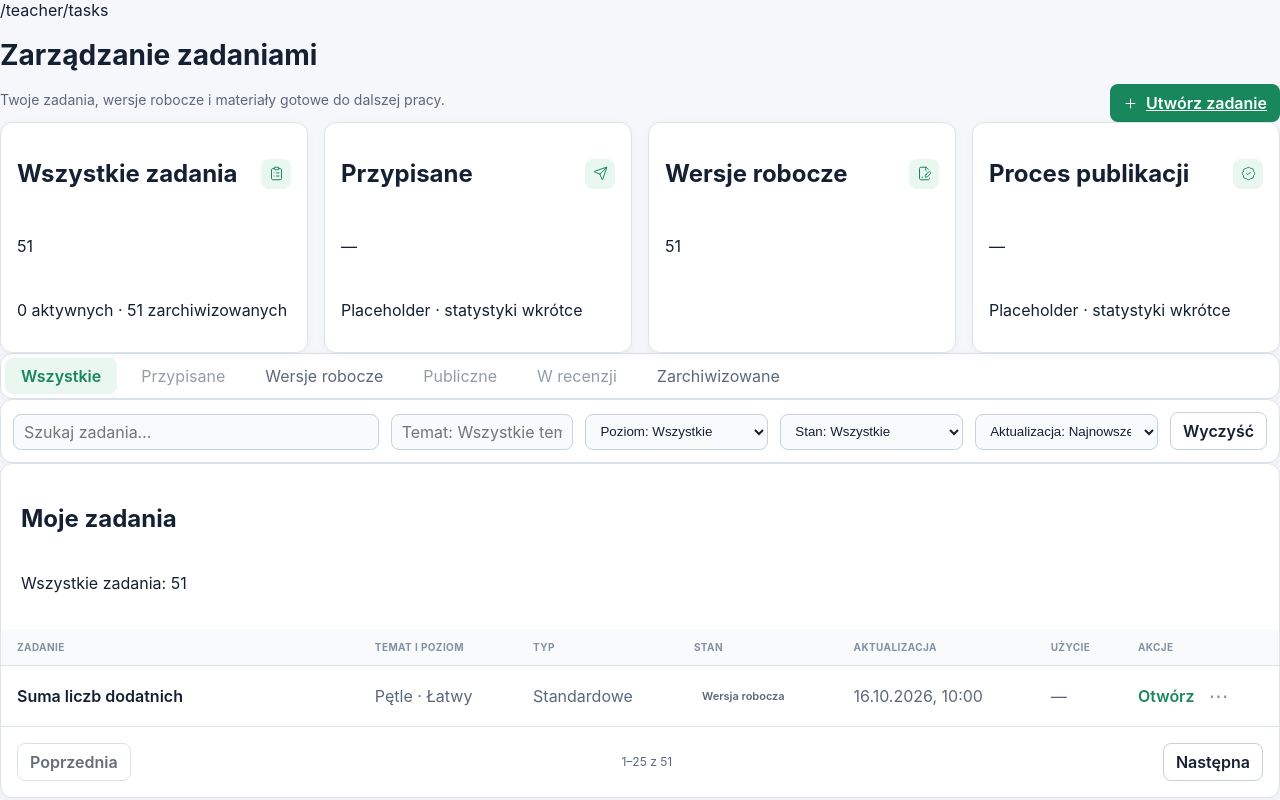
Test: distinguishes no matching results and lets the teacher clear filters
Expected: the table is shown, [1, 629, 1279, 726]
Step 1. Select "Gotowe" in the 2nd dropdown named "Status" → (872, 432), box [780, 414, 963, 450]
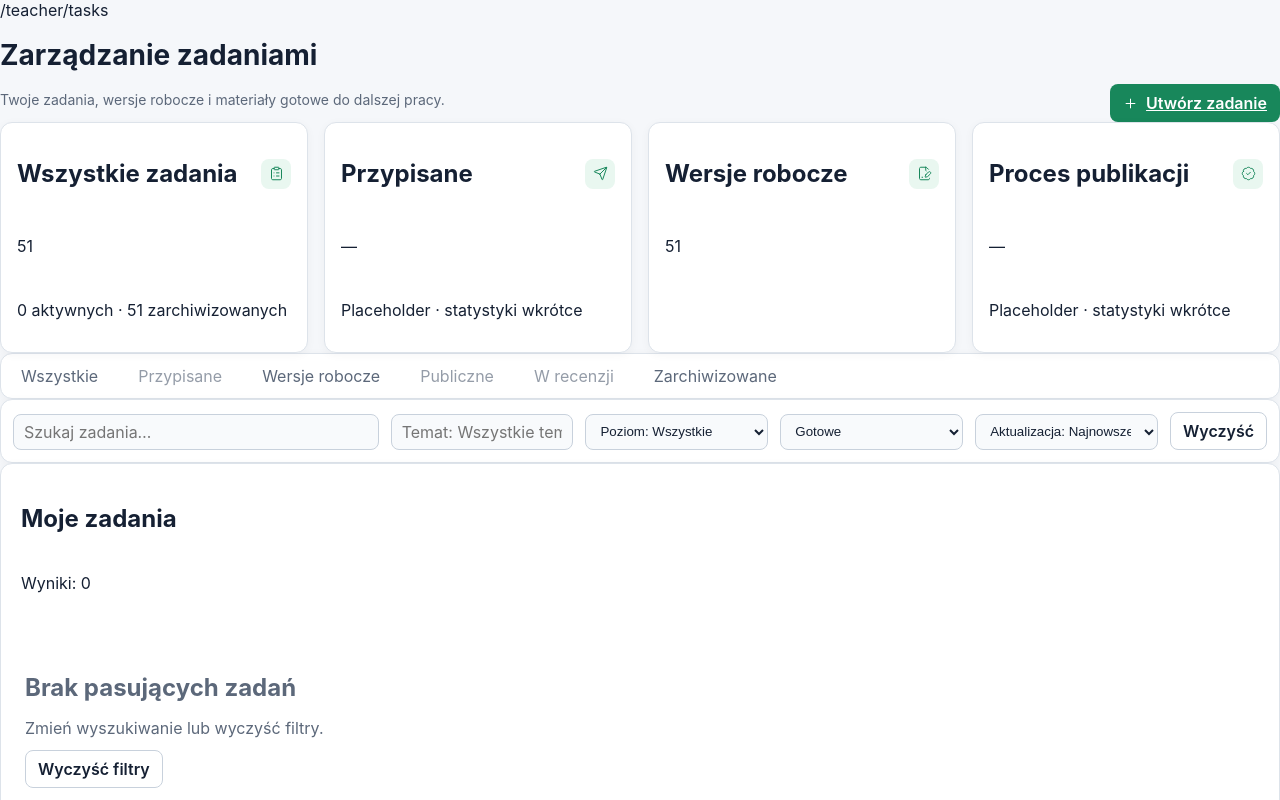
Result: the heading "Brak pasujących zadań" is shown at [25, 673, 296, 702]
Step 2. Click the button "Wyczyść filtry" → click(94, 769), box [25, 750, 163, 788]
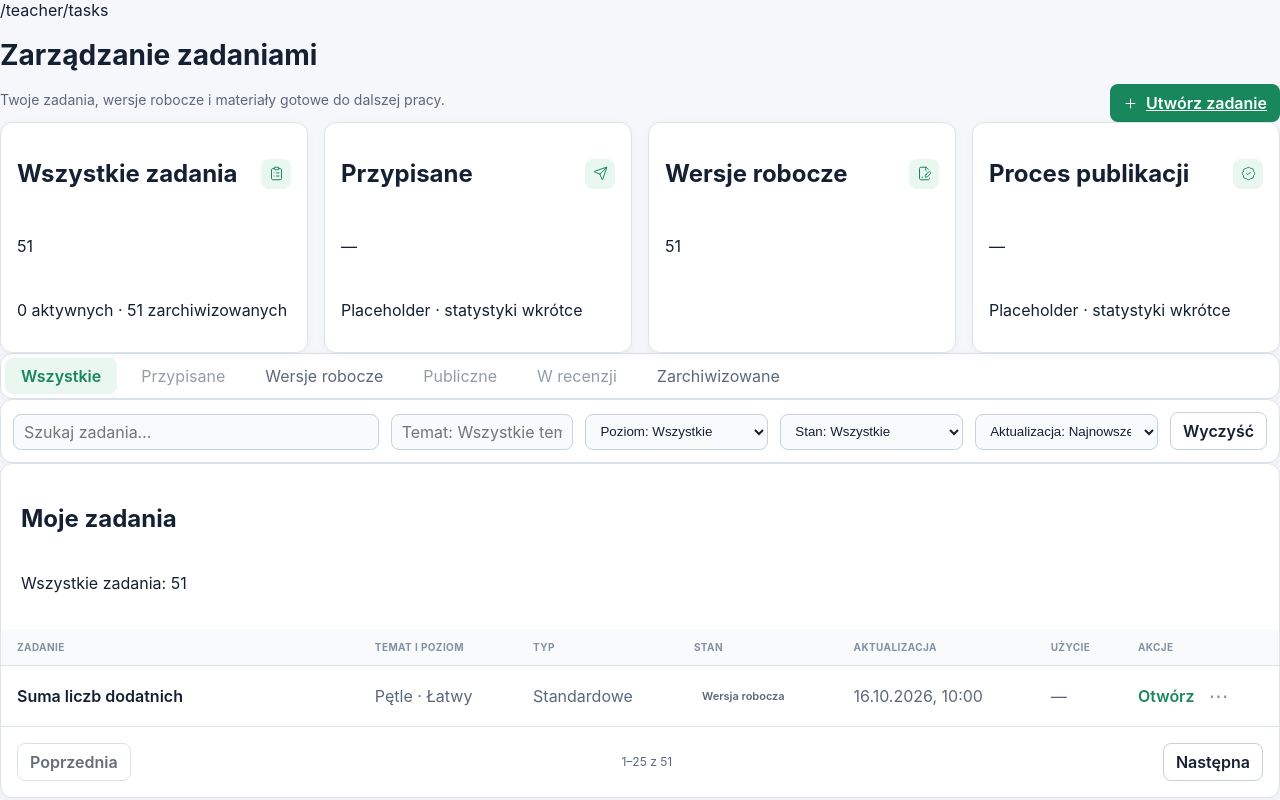
Result: the table is shown at [1, 629, 1279, 726]
